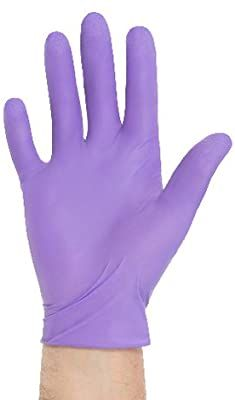gloves: (3, 13, 232, 345)
